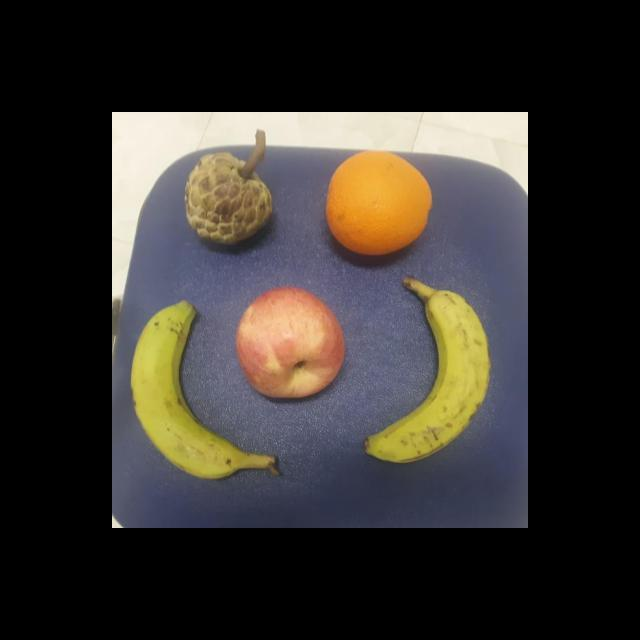Sakya fruit: (184, 150, 270, 247)
apple: (230, 283, 356, 402)
banana: (130, 296, 288, 478), (364, 277, 496, 465)
orange: (326, 148, 434, 258)
